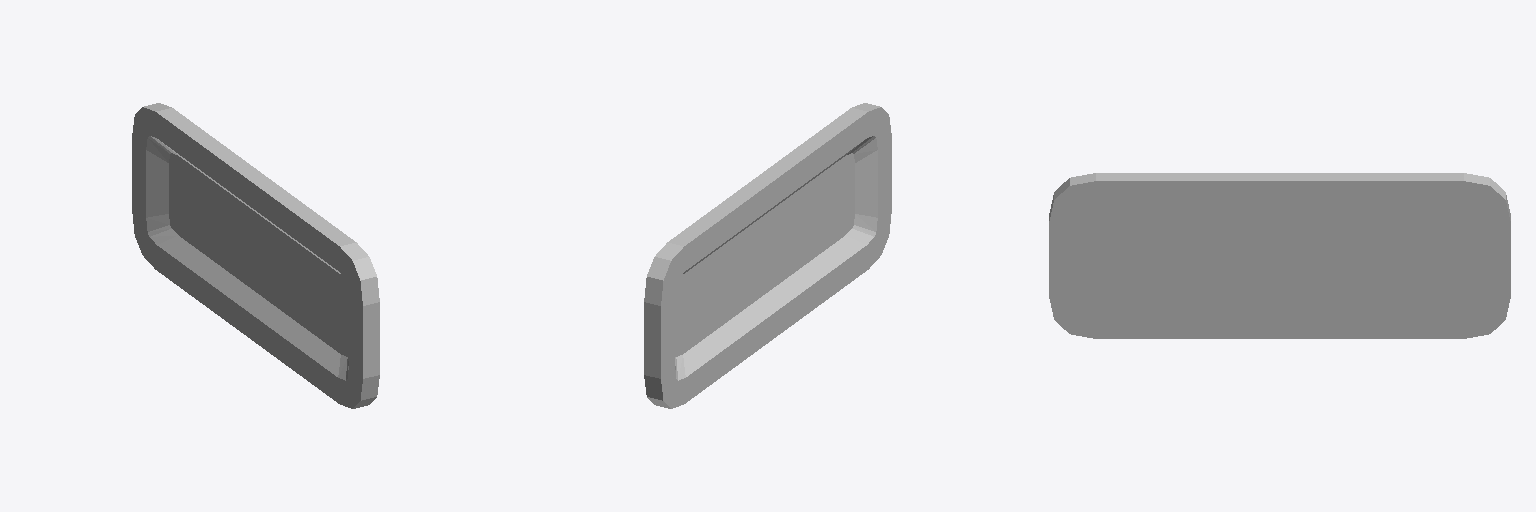
File: Placa.obj
The picture shows the model from 3 angles: view 1: azimuth 30°, elevation 25°; view 2: azimuth 150°, elevation 25°; view 3: azimuth 270°, elevation 25°; orthographic projection.
Parts seen in each view (by area): view 1: hypercasual_prop017; view 2: hypercasual_prop017; view 3: hypercasual_prop017.
Boxes of the visible parts, <box> form: hypercasual_prop017: <box>132,103,379,408</box>; hypercasual_prop017: <box>644,103,891,408</box>; hypercasual_prop017: <box>1049,173,1510,338</box>.
Bounding box in the file's own units: 0.0591 × 0.5292 × 1.4.